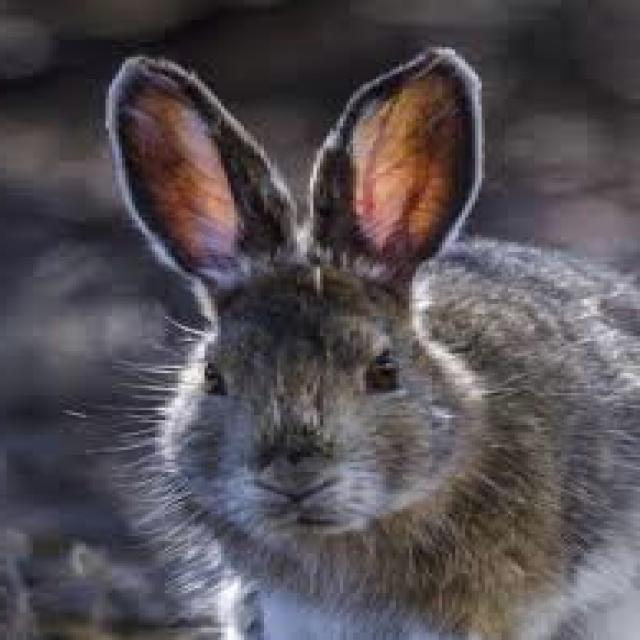hare: (109, 47, 640, 638)
